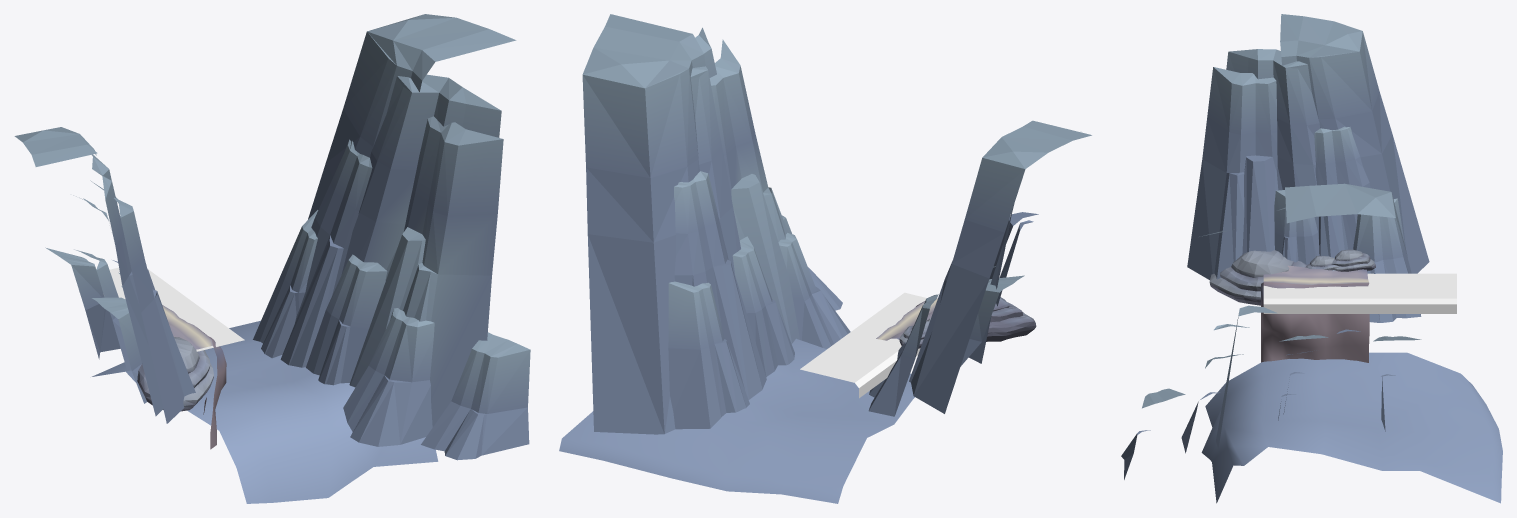
File: Arctic_Narrows_Right_Transition_Post_A.glb
3 views of the same model, side by side, from view 1: azimuth 30°, elevation 25°; view 2: azimuth 150°, elevation 25°; view 3: azimuth 270°, elevation 25° (orthographic). The views are drawn at different scales.
Visible parts, largest first — view 1: Arctic_Narrows_Left_IceWall_A02, Arctic_Narrows_Right_Transition_Post_A, Arctic_Narrows_Left_IceWall_A02_Mid, Arctic_Narrows_Left_IceWall_A02_Left, Arctic_Narrows_Right_IceWall_A01, Arctic_Narrows_Left_IceWall_A02_Right, Arctic_Narrows_Right_IceWall_A01_Right, inv_fill, Arctic_Narrows_Right_IceWall_A01_Left, Arctic_Narrows_Right_Snow_A01; view 2: Arctic_Narrows_Left_IceWall_A02, Arctic_Narrows_Right_Transition_Post_A, Arctic_Narrows_Left_IceWall_A02_Left, Arctic_Narrows_Right_IceWall_A01, Arctic_Narrows_Left_IceWall_A02_Mid, inv_fill, Arctic_Narrows_Right_IceWall_A01_Left, Arctic_Narrows_Right_Snow_A01; view 3: Arctic_Narrows_Right_Transition_Post_A, Arctic_Narrows_Right_IceWall_A01, inv_fill, Arctic_Narrows_Right_IceWall_A01_Mid, Arctic_Narrows_Left_IceWall_A02, Arctic_Narrows_Right_IceWall_A01_Left, Arctic_Narrows_Right_Snow_A01_Top, Arctic_Narrows_Right_Snow_A01, Arctic_Narrows_Left_IceWall_A02_Right, Arctic_Narrows_Right_Snow_A01_Mid, Arctic_Narrows_Left_IceWall_A02_Mid.
Boxes of the visible parts, box(x1,y1,x2,y2) form: Arctic_Narrows_Left_IceWall_A02: box(308, 14, 516, 427); Arctic_Narrows_Right_Transition_Post_A: box(92, 304, 438, 503); Arctic_Narrows_Left_IceWall_A02_Mid: box(306, 254, 434, 446); Arctic_Narrows_Left_IceWall_A02_Left: box(253, 139, 372, 367); Arctic_Narrows_Right_IceWall_A01: box(14, 127, 195, 423); Arctic_Narrows_Left_IceWall_A02_Right: box(421, 332, 530, 460); Arctic_Narrows_Right_IceWall_A01_Right: box(45, 247, 120, 359); inv_fill: box(109, 267, 244, 351); Arctic_Narrows_Right_IceWall_A01_Left: box(74, 249, 147, 403); Arctic_Narrows_Right_Snow_A01: box(137, 363, 213, 411); Arctic_Narrows_Left_IceWall_A02: box(582, 14, 799, 434); Arctic_Narrows_Right_Transition_Post_A: box(559, 298, 937, 503); Arctic_Narrows_Left_IceWall_A02_Left: box(668, 171, 766, 429); Arctic_Narrows_Right_IceWall_A01: box(911, 120, 1091, 413); Arctic_Narrows_Left_IceWall_A02_Mid: box(732, 232, 850, 377); inv_fill: box(800, 292, 926, 398); Arctic_Narrows_Right_IceWall_A01_Left: box(868, 275, 1024, 416); Arctic_Narrows_Right_Snow_A01: box(986, 312, 1036, 341); Arctic_Narrows_Right_Transition_Post_A: box(1201, 265, 1502, 503); Arctic_Narrows_Right_IceWall_A01: box(1187, 14, 1429, 279); inv_fill: box(1263, 273, 1456, 313); Arctic_Narrows_Right_IceWall_A01_Mid: box(1274, 126, 1370, 264); Arctic_Narrows_Left_IceWall_A02: box(1199, 183, 1407, 449); Arctic_Narrows_Right_IceWall_A01_Left: box(1353, 198, 1421, 322); Arctic_Narrows_Right_Snow_A01_Top: box(1231, 250, 1294, 277); Arctic_Narrows_Right_Snow_A01: box(1209, 273, 1260, 305); Arctic_Narrows_Left_IceWall_A02_Right: box(1121, 388, 1185, 479); Arctic_Narrows_Right_Snow_A01_Mid: box(1220, 261, 1306, 291); Arctic_Narrows_Left_IceWall_A02_Mid: box(1181, 335, 1328, 453).
Bounding box in the file's own units: 28.16 × 20.47 × 21.11.
